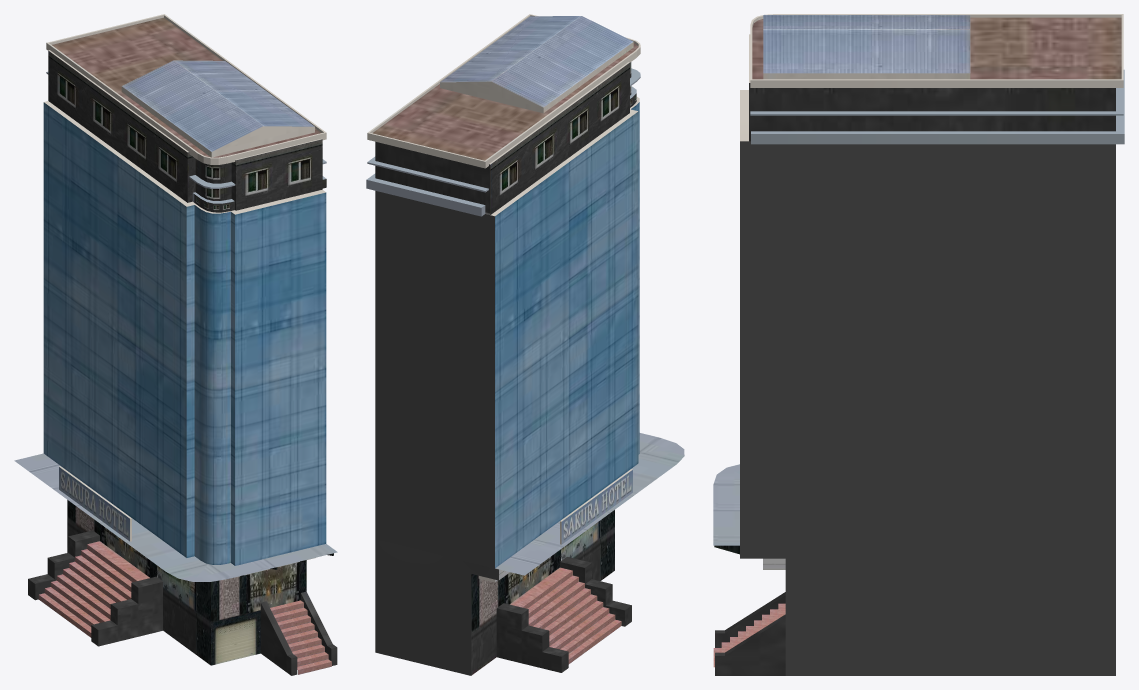
3 views of the same model, side by side, from view 1: azimuth 30°, elevation 25°; view 2: azimuth 150°, elevation 25°; view 3: azimuth 270°, elevation 25° (orthographic). The views are drawn at different scales.
Visible parts, largest first — view 1: HN381_SakuraHotel2; view 2: HN381_SakuraHotel2; view 3: HN381_SakuraHotel2.
Boxes of the visible parts, bbox=[...] form: HN381_SakuraHotel2: bbox=[14, 14, 337, 675]; HN381_SakuraHotel2: bbox=[366, 14, 684, 675]; HN381_SakuraHotel2: bbox=[713, 14, 1124, 675].
Bounding box in the file's own units: 10.36 × 32.05 × 19.34.
1 material, 1 textured.
